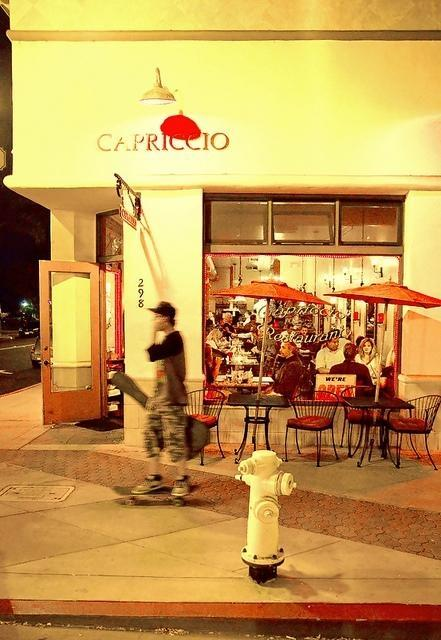car: (30, 336, 41, 368), (18, 324, 37, 338)
